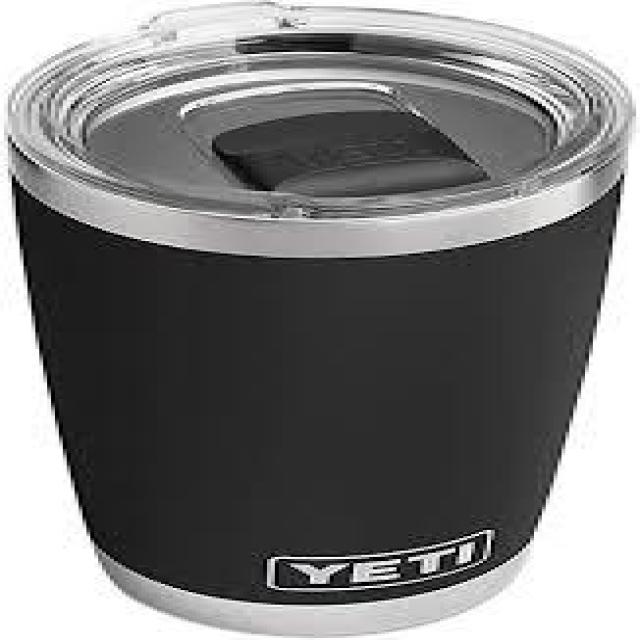bottle: (8, 3, 628, 635)
